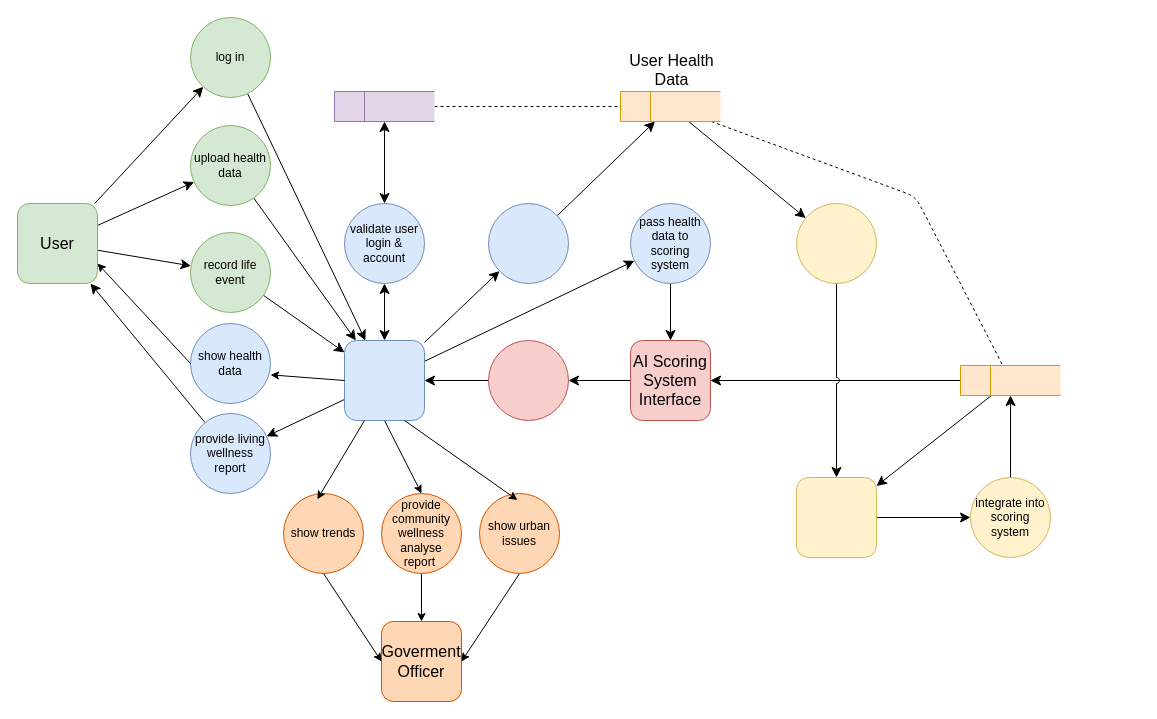
Some shapes in this 1157 by 719 pixel diagram are drawn without their labels. Here are the shapes that lost their labels. From the top down, the centre of each, then its label:
point (384, 106): Encrypted Accounts Database
point (528, 243): store health data
point (836, 243): read data
point (384, 380): website/ mobile interface
point (528, 380): generate score
point (1010, 380): AI Scoring System
point (836, 517): AI Training algorithm
